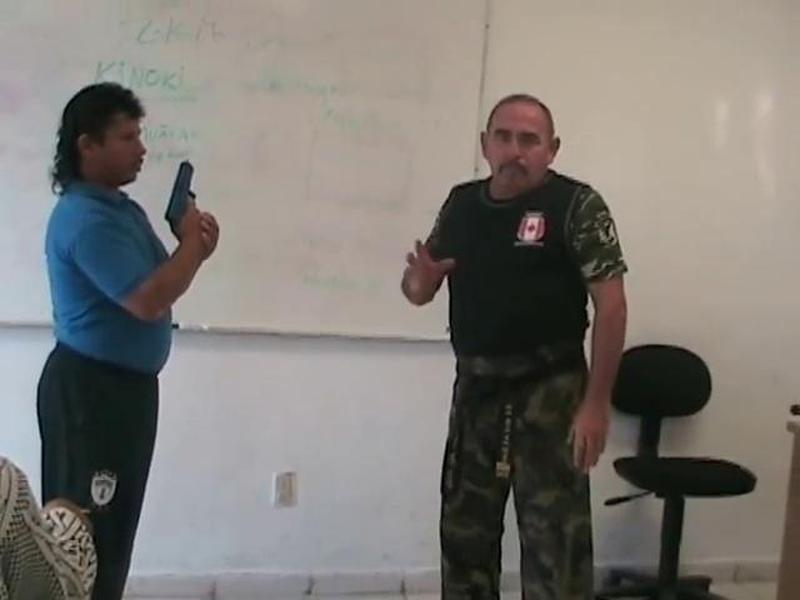Pistola: (161, 160, 222, 263)
